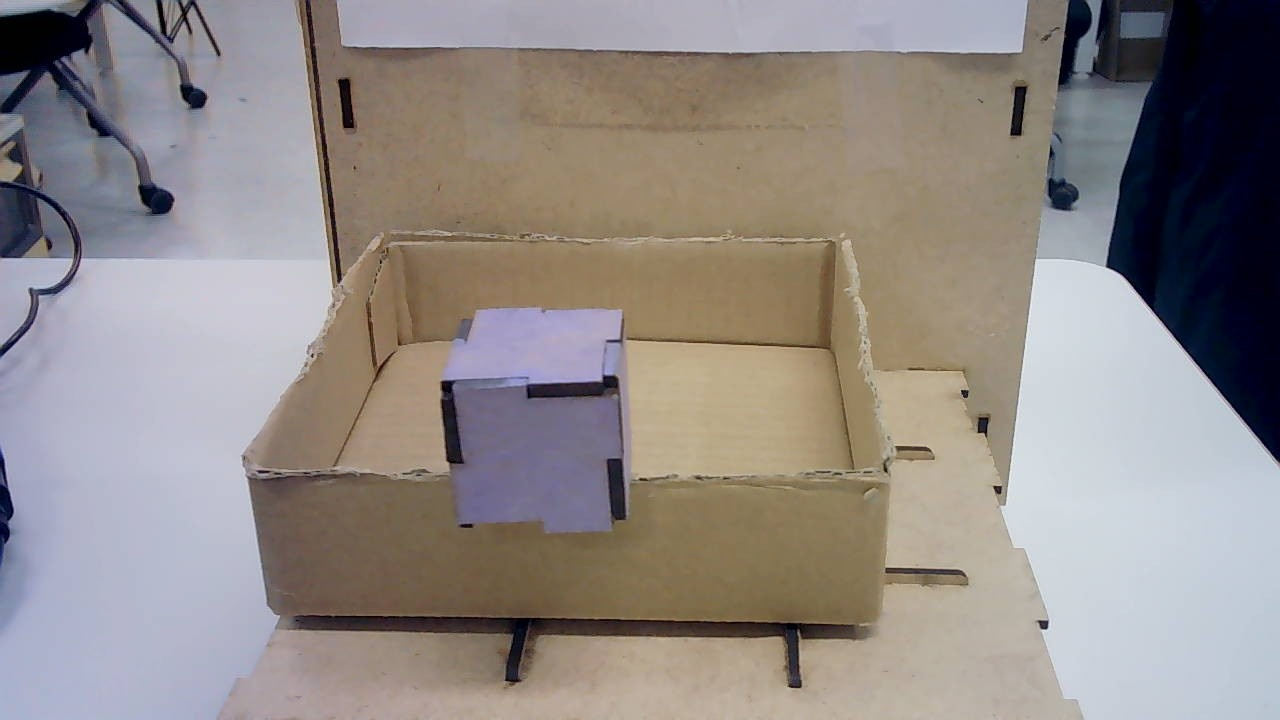pulple box: (434, 305, 639, 537)
